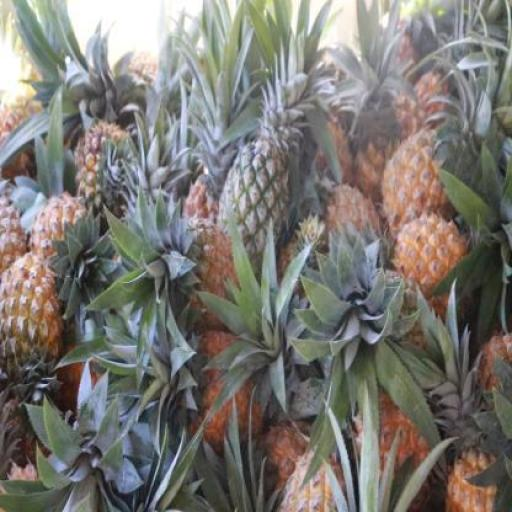Pineapple - v8 v1: (0, 256, 62, 382), (383, 134, 454, 236), (393, 219, 465, 307)
